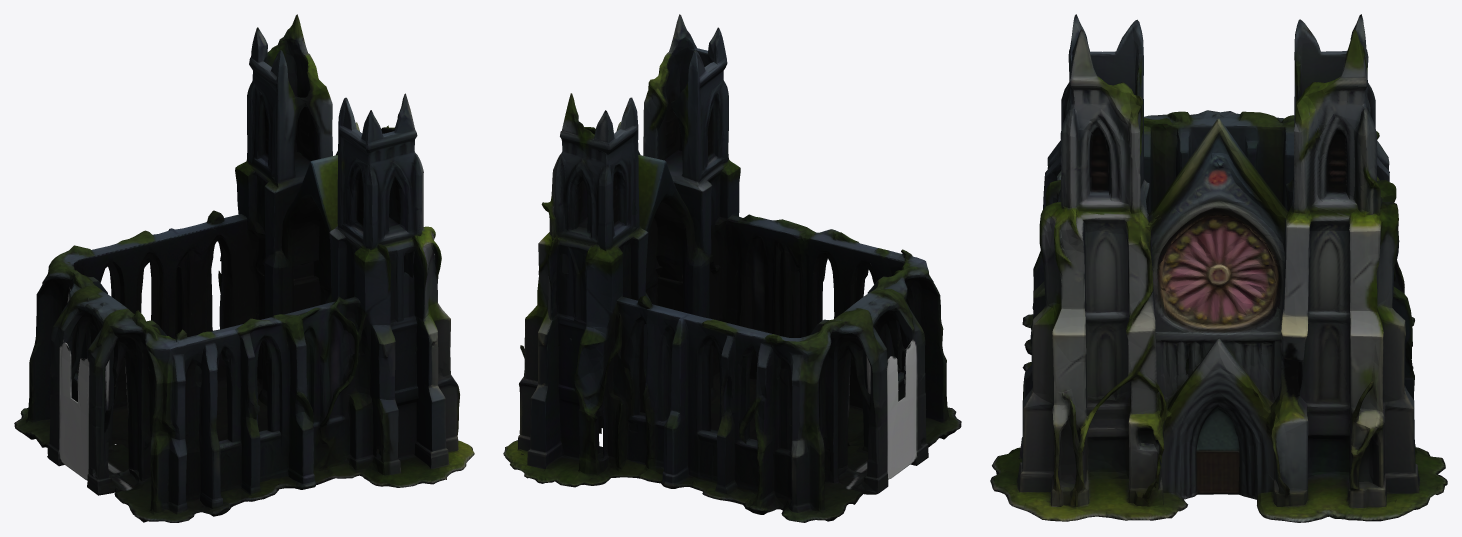
File: sunken_cathedral.glb
3 views of the same model, side by side, from view 1: azimuth 30°, elevation 25°; view 2: azimuth 150°, elevation 25°; view 3: azimuth 270°, elevation 25° (orthographic). The views are drawn at different scales.
Parts seen in each view (by area): view 1: geometry_0; view 2: geometry_0; view 3: geometry_0.
Part boxes in pixels (x1,y1,x2,y2): geometry_0: [14, 14, 474, 522]; geometry_0: [503, 14, 961, 522]; geometry_0: [990, 14, 1447, 522].
Bounding box in the file's own units: 0.9597 × 0.9967 × 0.8938.
Materials: 1 (1 with a texture image).
